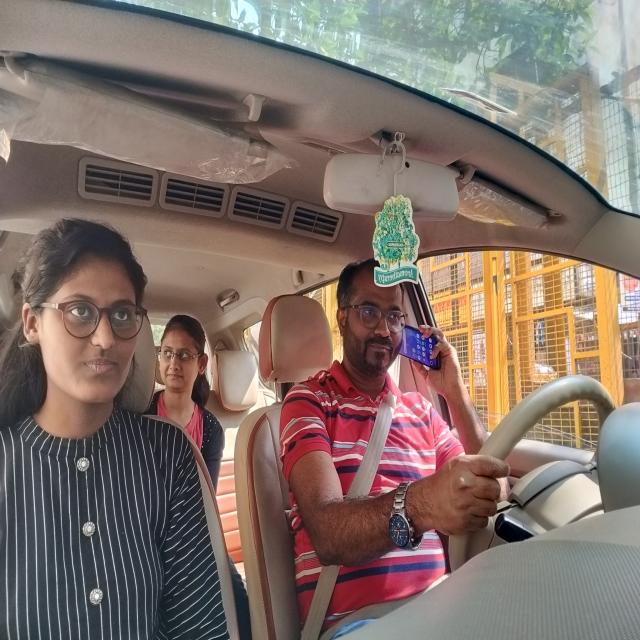mobile: (396, 318, 447, 377)
person: (29, 233, 142, 410), (339, 260, 402, 372), (163, 314, 214, 406)
